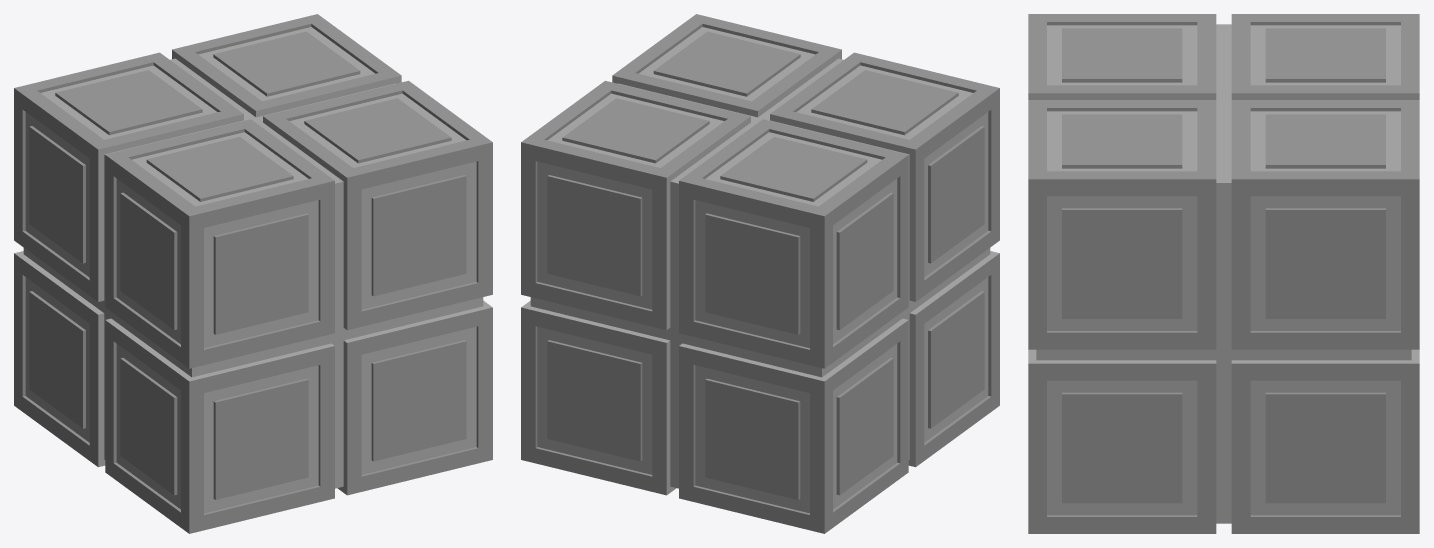
The model's file is stone_tile1.fbx.
3 views of the same model, side by side, from view 1: azimuth 30°, elevation 25°; view 2: azimuth 150°, elevation 25°; view 3: azimuth 270°, elevation 25° (orthographic). The views are drawn at different scales.
Parts seen in each view (by area): view 1: Mesh; view 2: Mesh; view 3: Mesh.
Boxes of the visible parts, x1,y1,x2,y2 form: Mesh: [14, 14, 492, 533]; Mesh: [521, 14, 999, 533]; Mesh: [1028, 14, 1419, 533].
Size of the model in its own units: 1 by 1 by 1.
